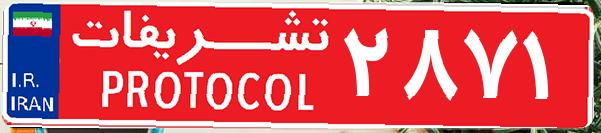1: (520, 20, 580, 115)
2: (340, 20, 400, 115)
7: (460, 20, 520, 115)
8: (400, 20, 460, 115)
تشریفات: (60, 8, 340, 125)
